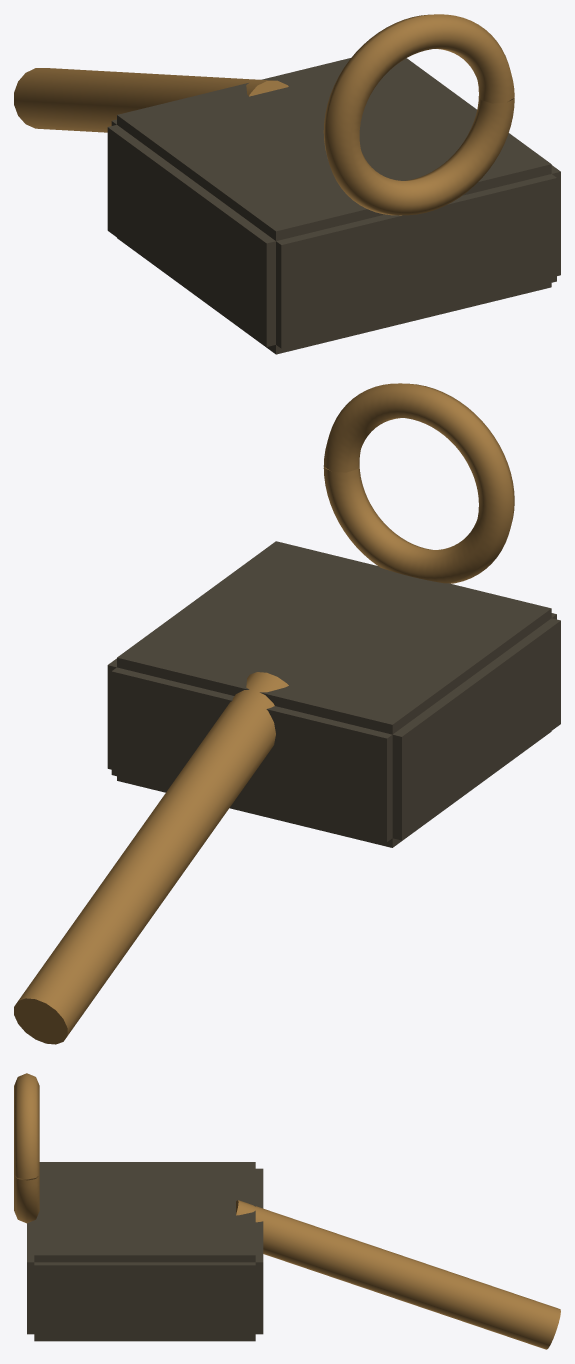
File: fracture-socket-v01.glb
3 views of the same model, one above another, from view 1: azimuth 30°, elevation 25°; view 2: azimuth 150°, elevation 25°; view 3: azimuth 270°, elevation 25° (orthographic). The views are drawn at different scales.
Parts seen in each view (by area): view 1: Fracture Bronze • aged recess, Fracture Bronze • forged warm; view 2: Fracture Bronze • aged recess, Fracture Bronze • forged warm; view 3: Fracture Bronze • aged recess, Fracture Bronze • forged warm.
Boxes of the visible parts, box(x1,y1,x2,y2) form: Fracture Bronze • aged recess: box(107, 58, 560, 354); Fracture Bronze • forged warm: box(14, 14, 514, 215); Fracture Bronze • aged recess: box(107, 541, 560, 847); Fracture Bronze • forged warm: box(14, 383, 514, 1044); Fracture Bronze • aged recess: box(27, 1162, 263, 1341); Fracture Bronze • forged warm: box(14, 1073, 560, 1349).
Size of the model in its own units: 1.1 by 1.37 by 2.54.
